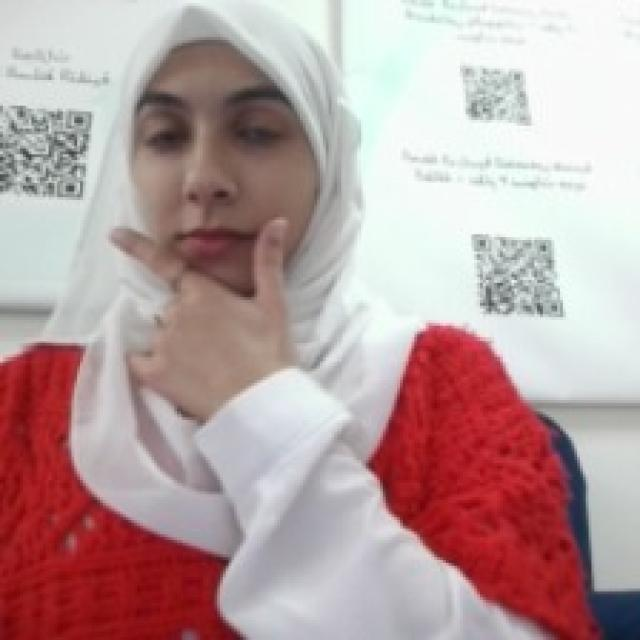smile: (100, 208, 300, 388)
